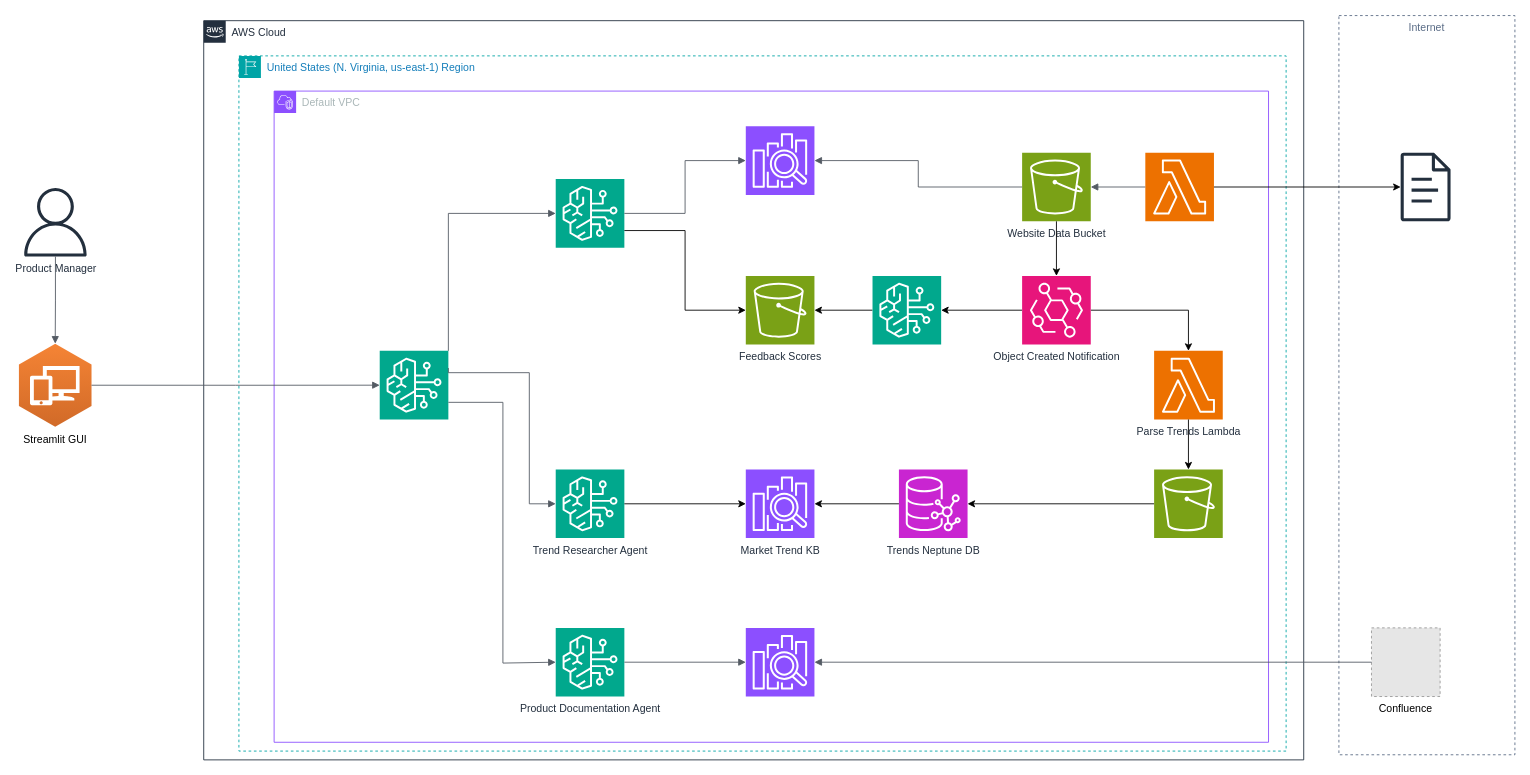
The diagram is 1530 pixels wide and 775 high, and some of its shapes have lost their labels. Grey dashed boxes stand in for pictures. The shapes that lost their labels are listed below. From the top down, each one's centre as x and y in pixels, then its label:
(x=779, y=160): Market Research KB
(x=1179, y=186): Crawl4AI Lambda
(x=1425, y=186): Websites
(x=589, y=213): Market Researcher Agent
(x=906, y=310): Feedback Scoring Agent
(x=413, y=384): Product Manager Agent
(x=1188, y=503): Trends Data Bucket
(x=779, y=662): Confluence KB
